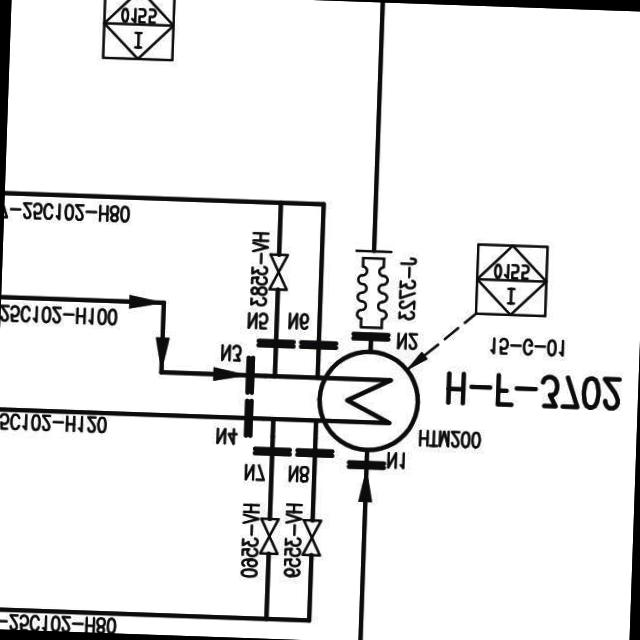EJ: (346, 242, 398, 340)
GV: (295, 514, 325, 562), (253, 512, 278, 560), (266, 248, 290, 297)
HE: (315, 344, 422, 456)
